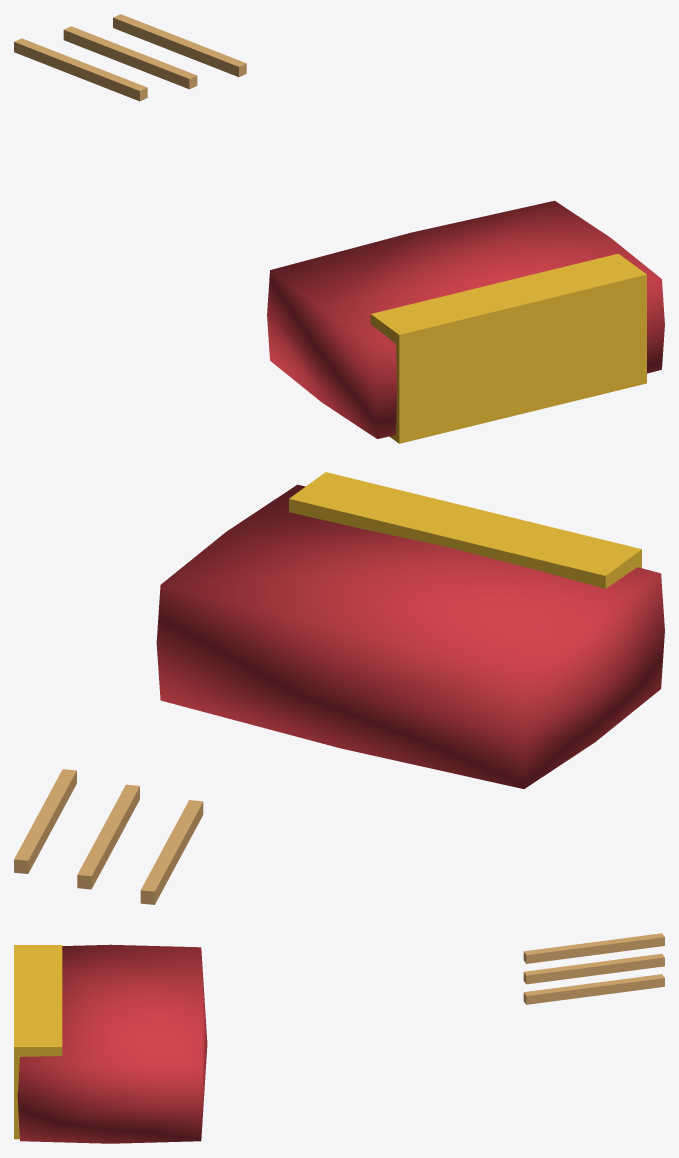
File: matchbox.glb
3 views of the same model, one above another, from view 1: azimuth 30°, elevation 25°; view 2: azimuth 150°, elevation 25°; view 3: azimuth 270°, elevation 25° (orthographic). The views are drawn at different scales.
Visible parts, largest first — view 1: root; view 2: root; view 3: root.
Boxes of the visible parts, x1,y1,x2,y2 form: root: [14, 14, 664, 443]; root: [14, 472, 664, 904]; root: [14, 933, 664, 1143].
Size of the model in its own units: 0.12 by 0.047 by 0.2693.
